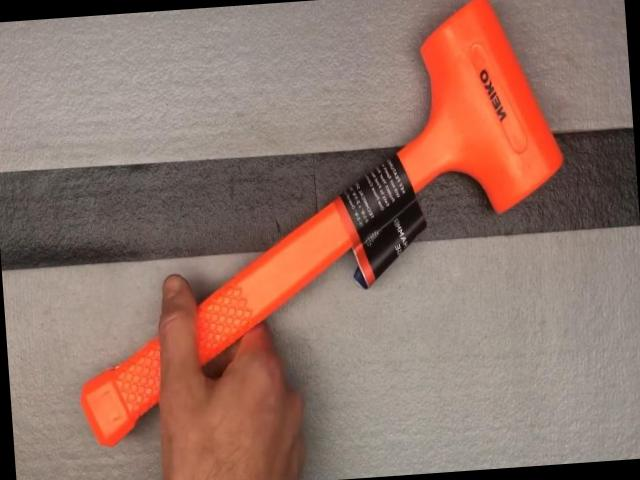hammer: (50, 0, 586, 448)
